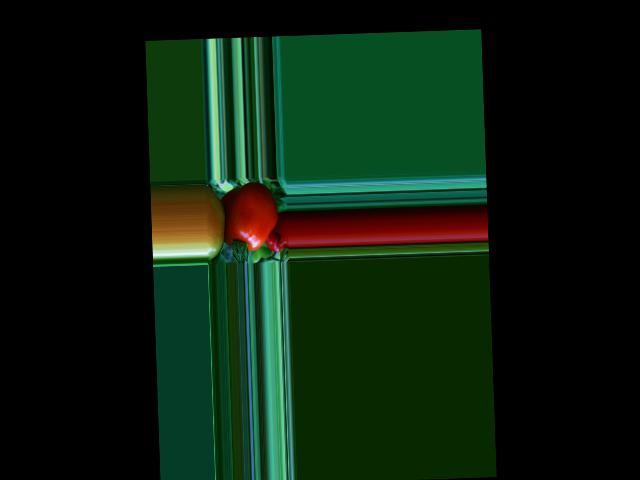tomato: (222, 181, 279, 251)
